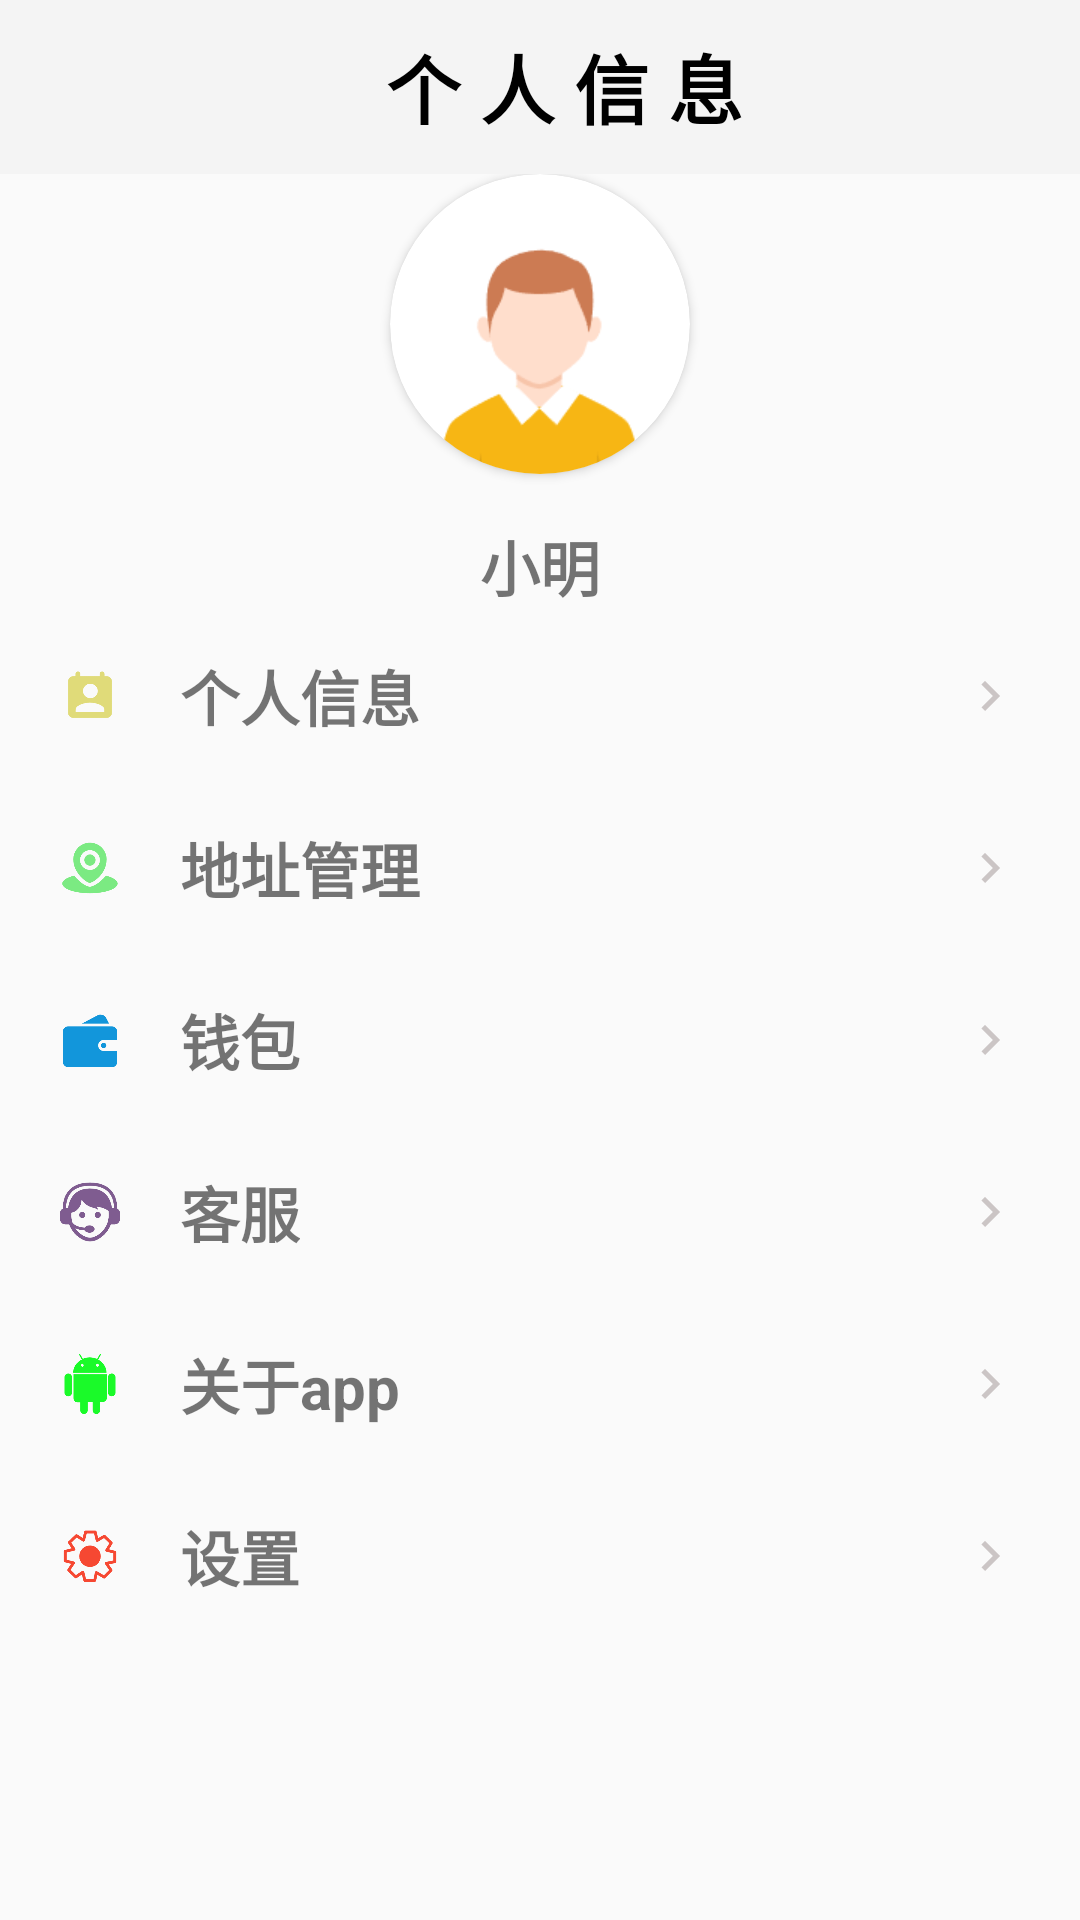

Point at icon controls on the screen. Image size 1080×1920, points as (x,y).
address: (90,868)
information: (90,694)
kefu: (90,1212)
keyboard arrow right: (991,696), (991,868), (991,1040), (991,1212), (991,1384), (991,1556)
qianbao: (90,1040)
shezhi: (90,1556)
